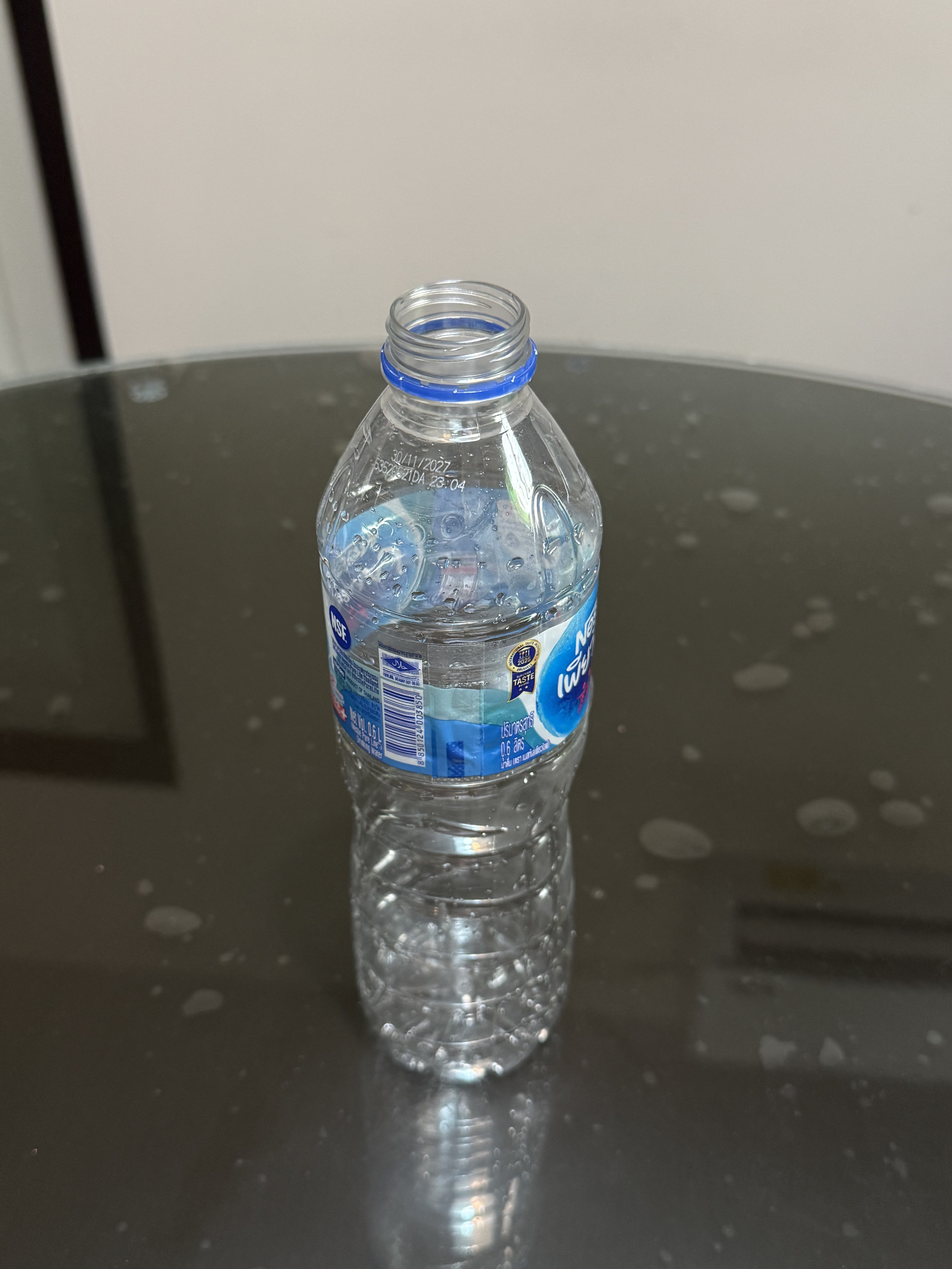no_cap: (375, 276, 541, 406)
